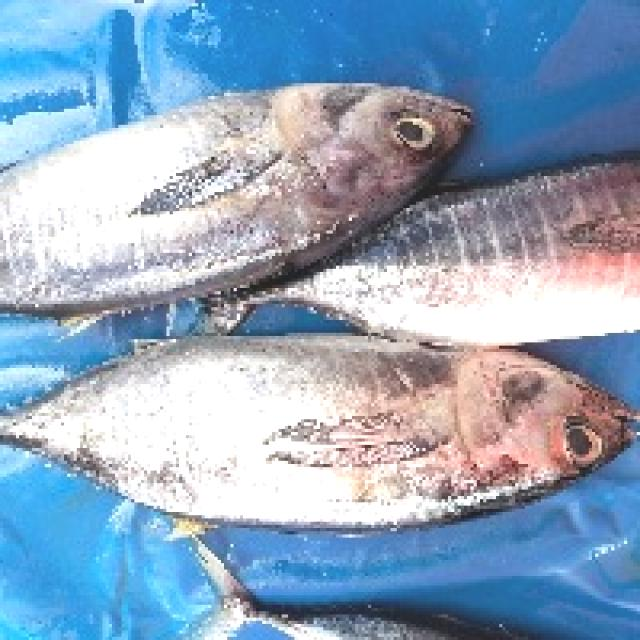ikan: (0, 319, 640, 542), (0, 68, 485, 339)
